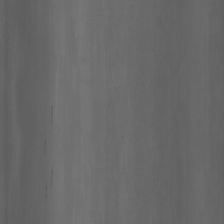water_spot: (41, 96, 59, 200)
